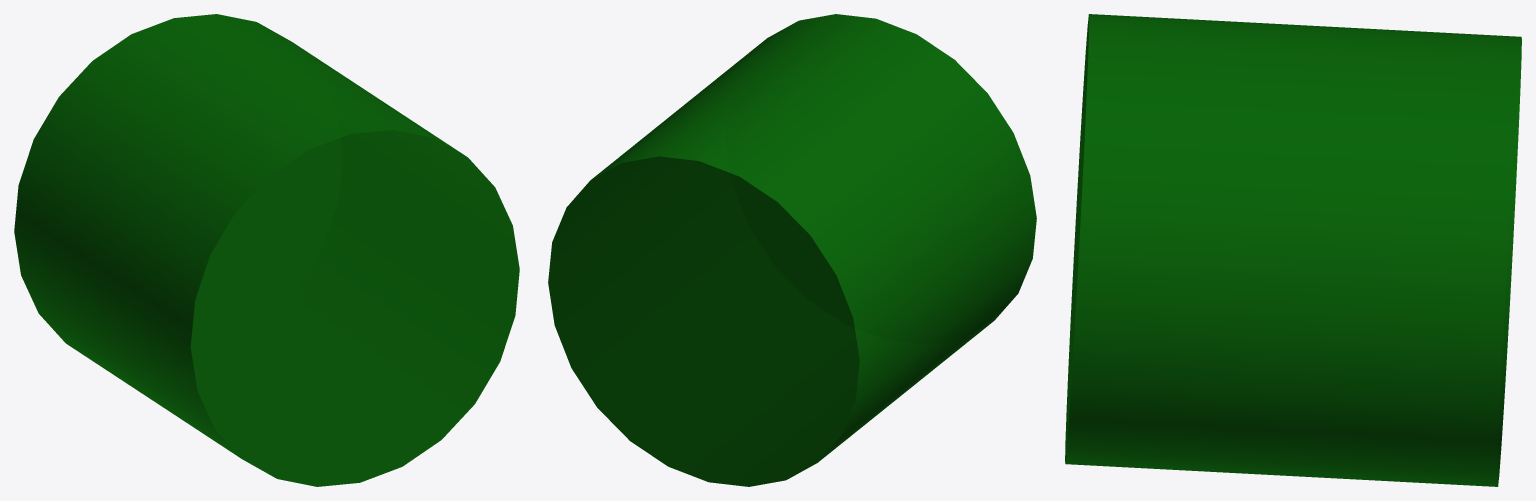
File: Event_420604493_jet_3.fbx
The picture shows the model from 3 angles, left to right: view 1: azimuth 30°, elevation 25°; view 2: azimuth 150°, elevation 25°; view 3: azimuth 270°, elevation 25°; orthographic projection. The views are drawn at different scales.
Parts seen in each view (by area): view 1: Model; view 2: Model; view 3: Model.
Boxes of the visible parts, x1=… form: Model: x1=14, y1=14, x2=519, y2=486; Model: x1=548, y1=14, x2=1036, y2=486; Model: x1=1065, y1=14, x2=1521, y2=486.
Size of the model in its own units: 0.0405 by 0.0419 by 0.0404.
